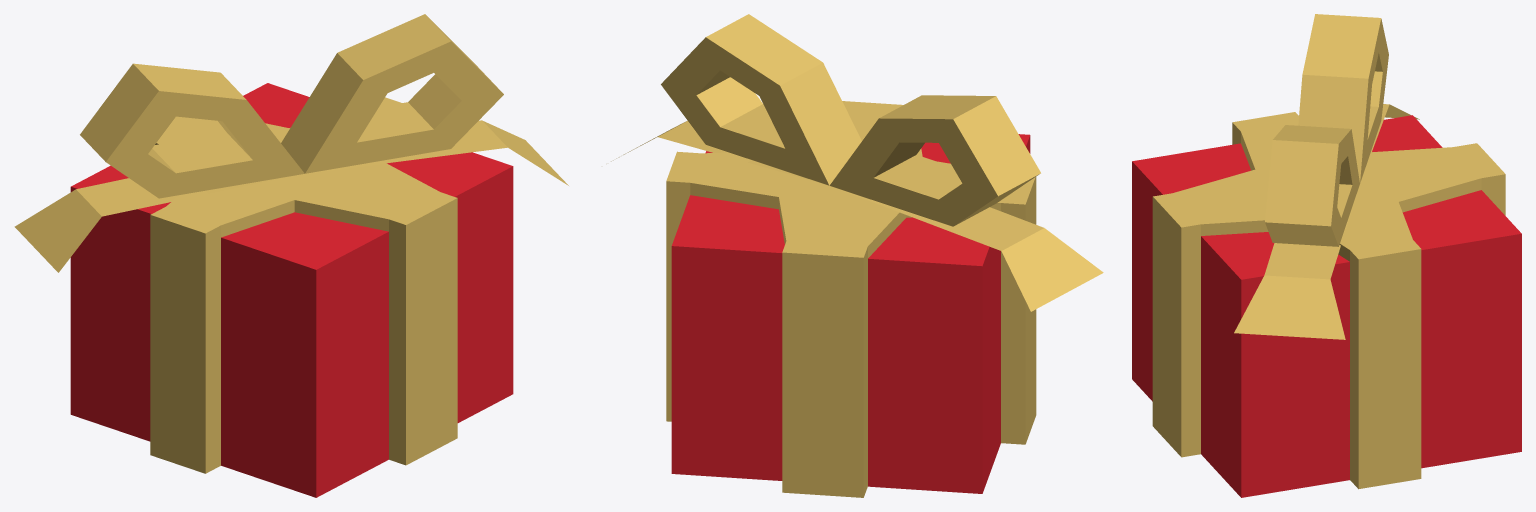
The model's file is prezent_2.fbx.
The picture shows the model from 3 angles, left to right: view 1: azimuth 30°, elevation 25°; view 2: azimuth 150°, elevation 25°; view 3: azimuth 270°, elevation 25°; orthographic projection. The views are drawn at different scales.
Parts seen in each view (by area): view 1: Cube.018; view 2: Cube.018; view 3: Cube.018.
Part boxes in pixels (left/top/right/bottom): Cube.018: left=14, top=14, right=568, bottom=497; Cube.018: left=611, top=14, right=1103, bottom=497; Cube.018: left=1132, top=14, right=1521, bottom=497.
Size of the model in its own units: 542 by 375 by 393.
